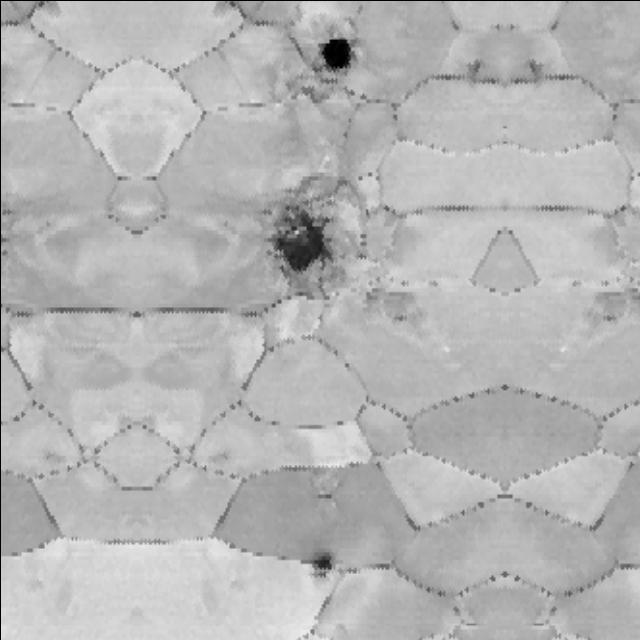good_void: (246, 198, 355, 287), (310, 27, 368, 85), (363, 277, 421, 328), (586, 277, 640, 328), (280, 74, 326, 110), (308, 477, 340, 515), (300, 552, 340, 574), (457, 53, 484, 81), (523, 53, 550, 81)
